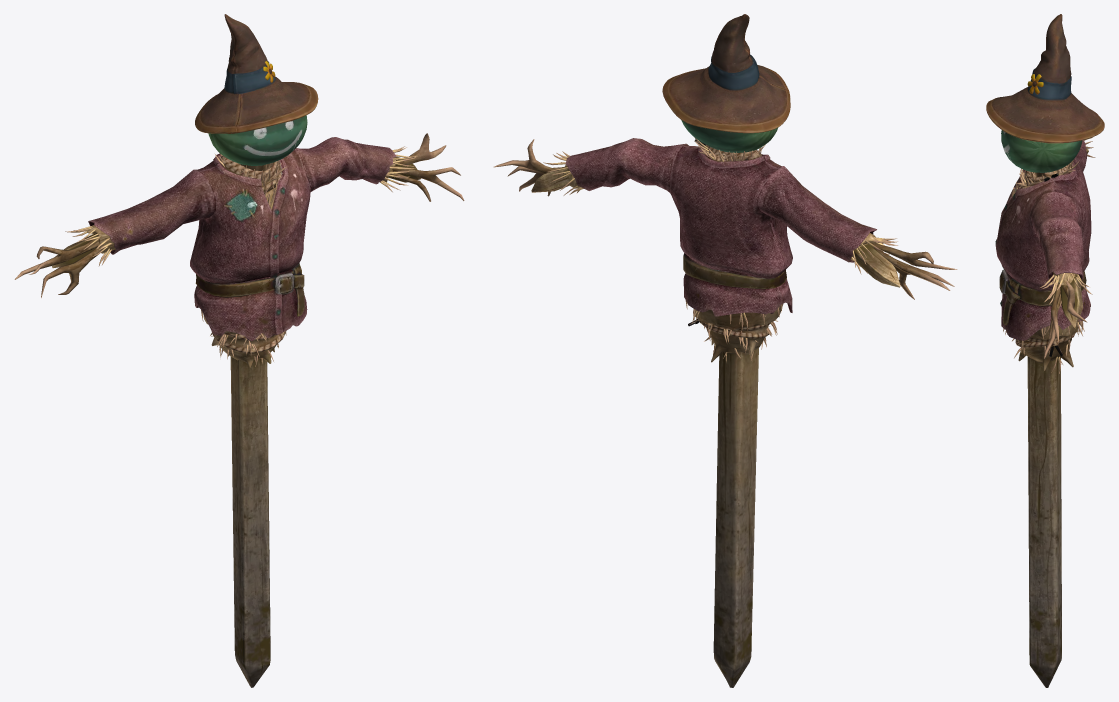
3 views of the same model, side by side, from view 1: azimuth 30°, elevation 25°; view 2: azimuth 150°, elevation 25°; view 3: azimuth 270°, elevation 25° (orthographic). The views are drawn at different scales.
Visible parts, largest first — view 1: SM_Scarecrow_01_LOD0; view 2: SM_Scarecrow_01_LOD0; view 3: SM_Scarecrow_01_LOD0.
Boxes of the visible parts, bbox=[...] form: SM_Scarecrow_01_LOD0: bbox=[14, 14, 464, 687]; SM_Scarecrow_01_LOD0: bbox=[493, 14, 957, 687]; SM_Scarecrow_01_LOD0: bbox=[986, 14, 1104, 687].
Size of the model in its own units: 2.05 by 2.98 by 0.4831.
1 material, 1 textured.
